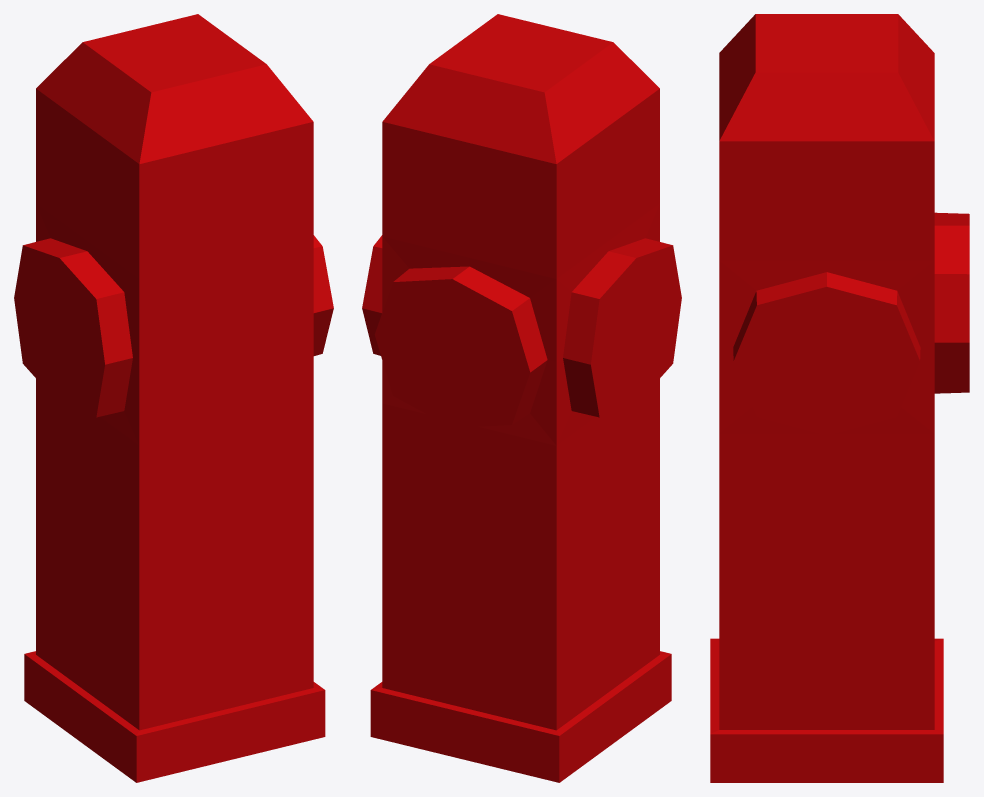
File: firehydrant.fbx
3 renders of one model, left to right at view 1: azimuth 30°, elevation 25°; view 2: azimuth 150°, elevation 25°; view 3: azimuth 270°, elevation 25°, orthographic. The views are drawn at different scales.
Parts seen in each view (by area): view 1: Cube; view 2: Cube; view 3: Cube.
Boxes of the visible parts, x1,y1,x2,y2 form: Cube: [14, 14, 333, 782]; Cube: [362, 14, 681, 782]; Cube: [710, 14, 969, 782].
Size of the model in its own units: 0.2073 by 0.5748 by 0.1954.
